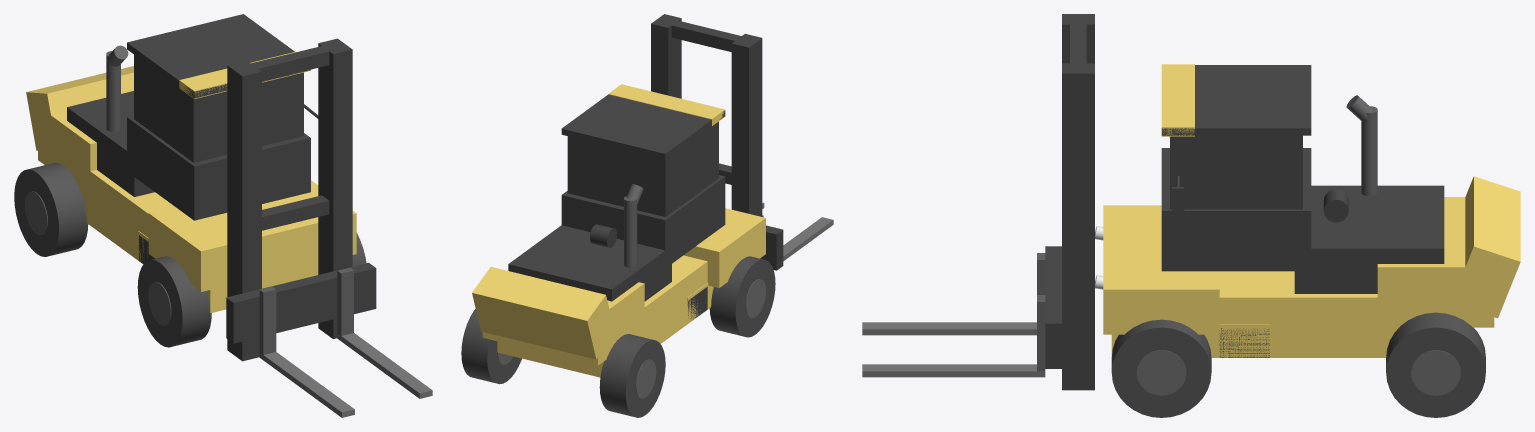
File: forklift_full.gltf
3 renders of one model, left to right at view 1: azimuth 30°, elevation 25°; view 2: azimuth 150°, elevation 25°; view 3: azimuth 270°, elevation 25°, orthographic. The views are drawn at different scales.
Parts seen in each view (by area): view 1: cab_pillars, cab_lower_base, mast_rail_right, chassis_front_fenders, mast_rail_left, cab_roof, chassis_base, carriage_plate, tire_rear_right, tire_front_right, engine_cover, counterweight_slant (+11 smaller); view 2: cab_pillars, counterweight_slant, engine_cover, cab_lower_base, cab_roof, mast_rail_right, chassis_base, tire_rear_right, tire_front_right, chassis_front_fenders, chassis_rear_counterweight, mast_rail_left (+10 smaller); view 3: chassis_base, engine_cover, mast_rail_left, chassis_front_fenders, cab_lower_base, cab_pillars, cab_roof, chassis_rear_counterweight, tire_rear_left, counterweight_slant, tire_front_left, fork_blade_left (+11 smaller).
Part boxes in pixels (x1,y1,x2,y2): cab_pillars: (134,55,303,162); cab_lower_base: (127,115,310,220); mast_rail_right: (227,60,261,361); chassis_front_fenders: (148,180,356,291); mast_rail_left: (318,38,352,339); cab_roof: (127,14,310,98); chassis_base: (53,144,318,313); carriage_plate: (226,262,376,343); tire_rear_right: (14,162,88,256); tire_front_right: (137,256,211,347); engine_cover: (67,91,154,196); counterweight_slant: (26,66,133,151); cab_pillars: (567,121,718,216); counterweight_slant: (472,267,609,359); engine_cover: (508,225,671,301); cab_lower_base: (561,175,725,263); cab_roof: (561,94,725,159); mast_rail_right: (731,33,762,258); chassis_base: (497,255,713,377); tire_rear_right: (599,334,665,417); tire_front_right: (709,256,775,337); chassis_front_fenders: (684,208,765,287); chassis_rear_counterweight: (482,282,644,365); mast_rail_left: (651,14,681,98); chassis_base: (1111,271,1460,357); engine_cover: (1294,185,1444,293); mast_rail_left: (1062,63,1094,390); chassis_front_fenders: (1103,205,1219,334); cab_lower_base: (1161,148,1311,271); cab_pillars: (1170,135,1302,209); cab_roof: (1161,65,1311,135); chassis_rear_counterweight: (1377,197,1494,327); tire_rear_left: (1386,312,1485,417); counterweight_slant: (1452,176,1520,318); tire_front_left: (1111,319,1211,417); fork_blade_left: (862,364,1045,377).
Bounding box in the file's own units: 2.87 × 4.3 × 7.92.
